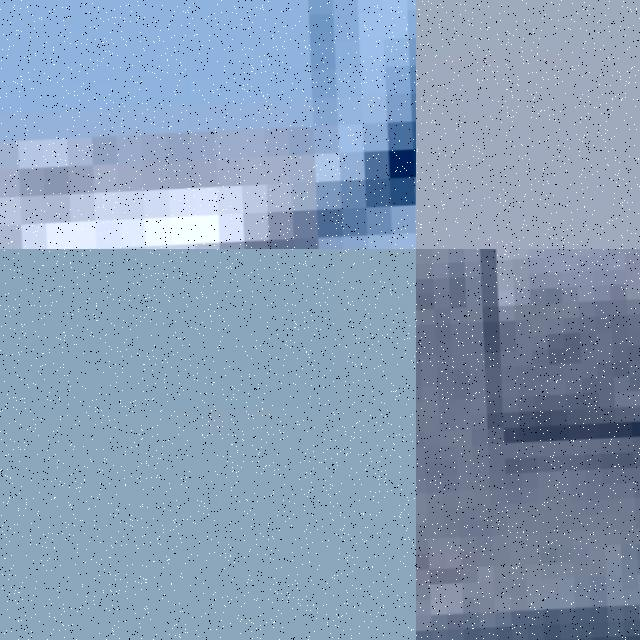drone: (0, 0, 416, 249), (416, 249, 640, 640)
